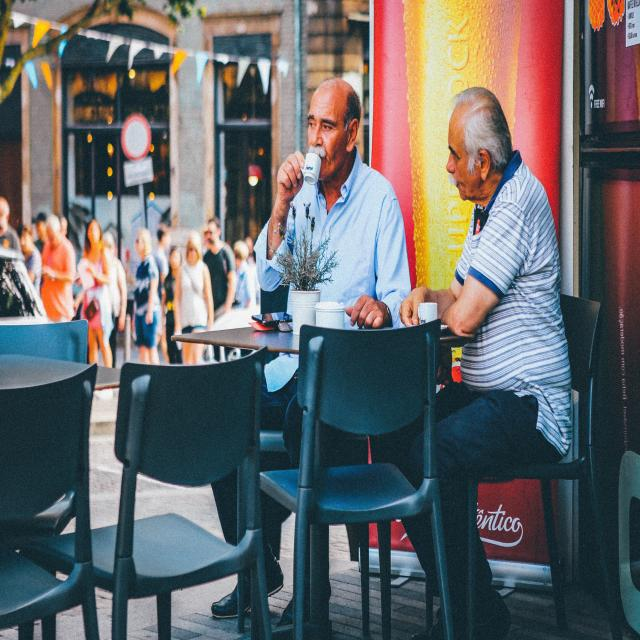nonfall: (429, 82, 585, 520), (280, 82, 408, 327)
